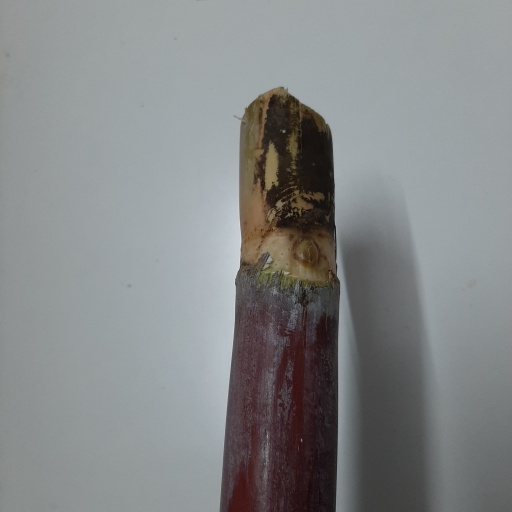Bud: (295, 235, 319, 266)
